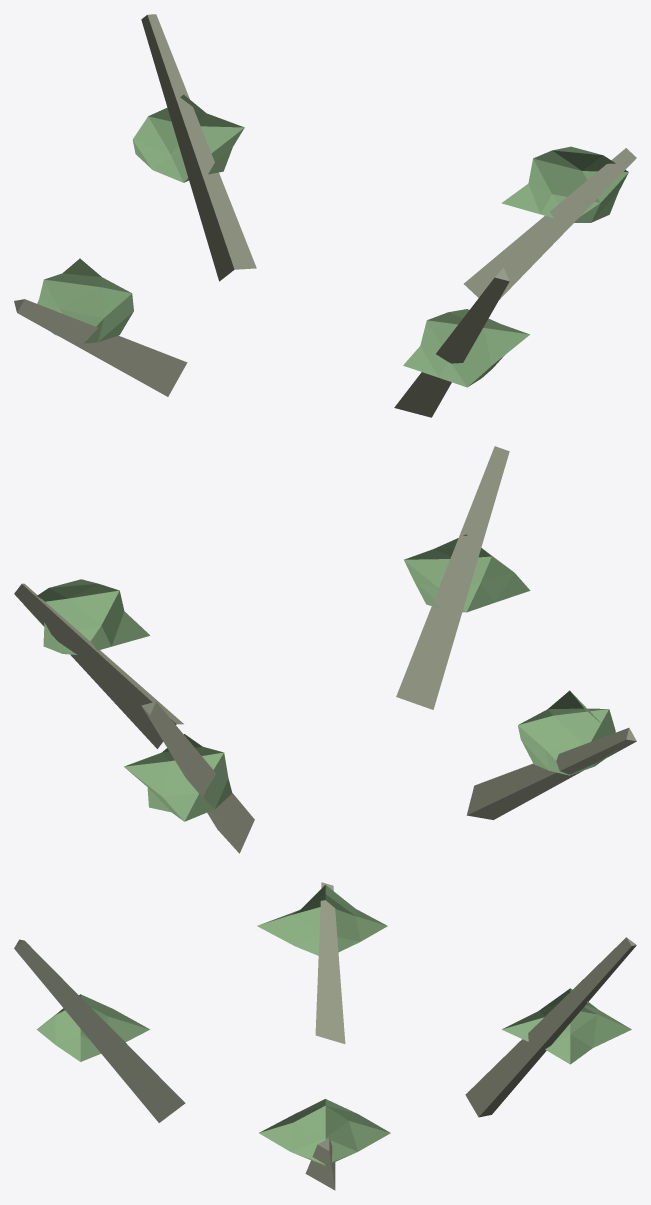
Rendered from bramble_v37.glb.
The picture shows the model from 3 angles, top to bottom: view 1: azimuth 30°, elevation 25°; view 2: azimuth 150°, elevation 25°; view 3: azimuth 270°, elevation 25°; orthographic projection. The views are drawn at different scales.
Visible parts, largest first — view 1: lod0; view 2: lod0; view 3: lod0.
Part boxes in pixels (<box>): lod0: <box>14,14,636,417</box>; lod0: <box>14,446,636,853</box>; lod0: <box>14,882,636,1190</box>.
Size of what is drawn, in the model's own units: 0.7777 by 0.2535 by 0.7813.
